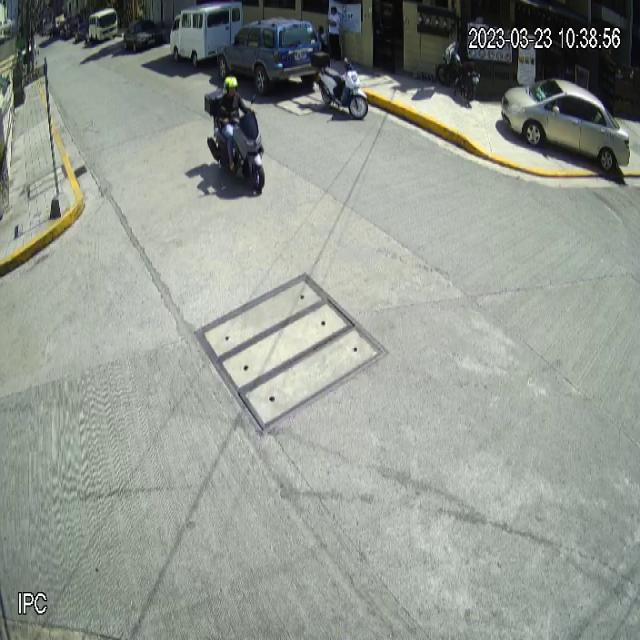Car: (500, 77, 631, 173), (217, 17, 323, 89)
Motorcycle: (204, 89, 265, 194), (310, 48, 368, 122)
Van: (170, 0, 243, 70)
